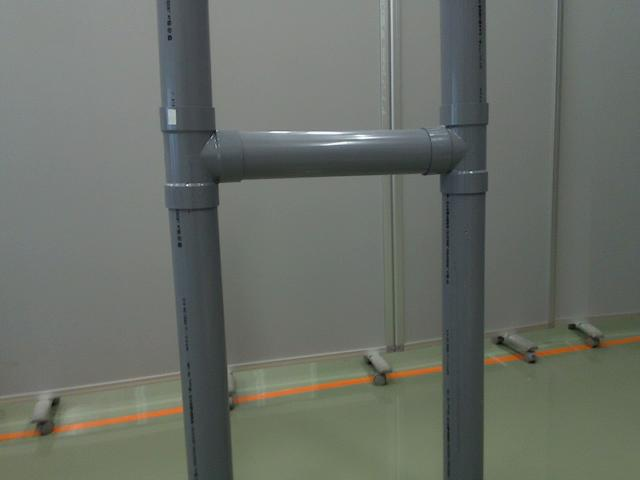junction: (153, 107, 244, 211), (422, 105, 490, 199)
